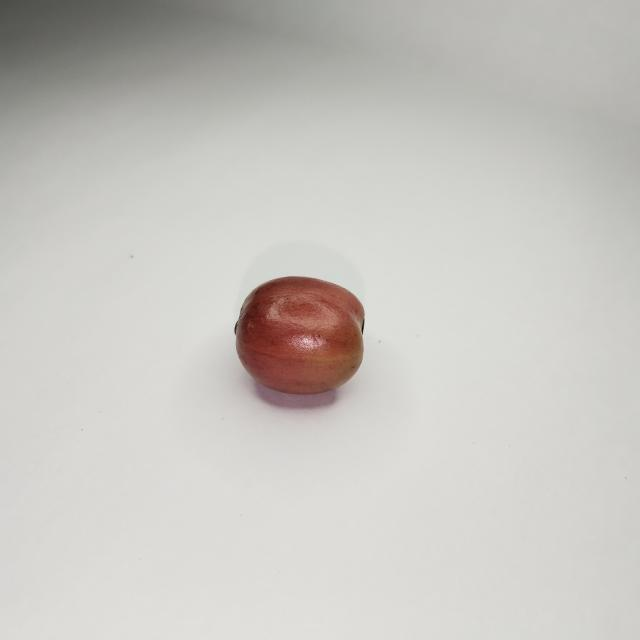Sano: (235, 276, 362, 400)
